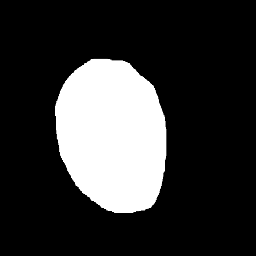mass: (58, 63, 165, 204)
